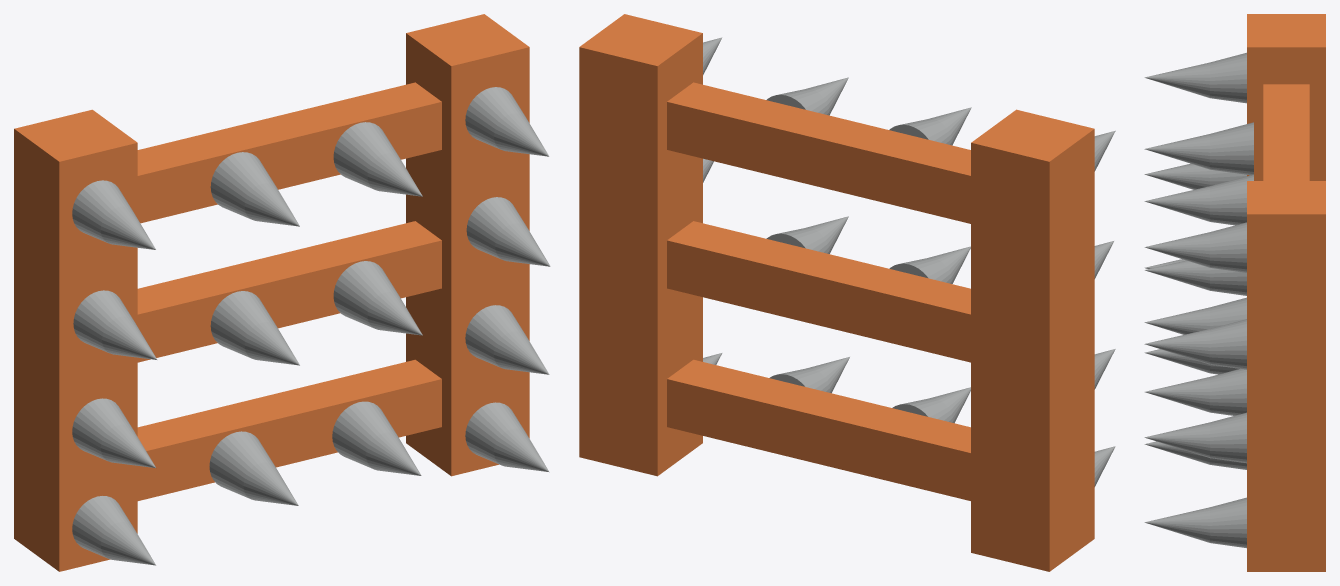
Rendered from SpikeLadder.fbx.
The picture shows the model from 3 angles, left to right: view 1: azimuth 30°, elevation 25°; view 2: azimuth 150°, elevation 25°; view 3: azimuth 270°, elevation 25°; orthographic projection. The views are drawn at different scales.
Parts seen in each view (by area): view 1: SpikeLadder; view 2: SpikeLadder; view 3: SpikeLadder.
Part boxes in pixels (x1,y1,x2,y2): SpikeLadder: [14, 14, 550, 571]; SpikeLadder: [579, 14, 1115, 571]; SpikeLadder: [1144, 14, 1325, 571].
Bounding box in the file's own units: 1.2 × 1 × 0.4607.
